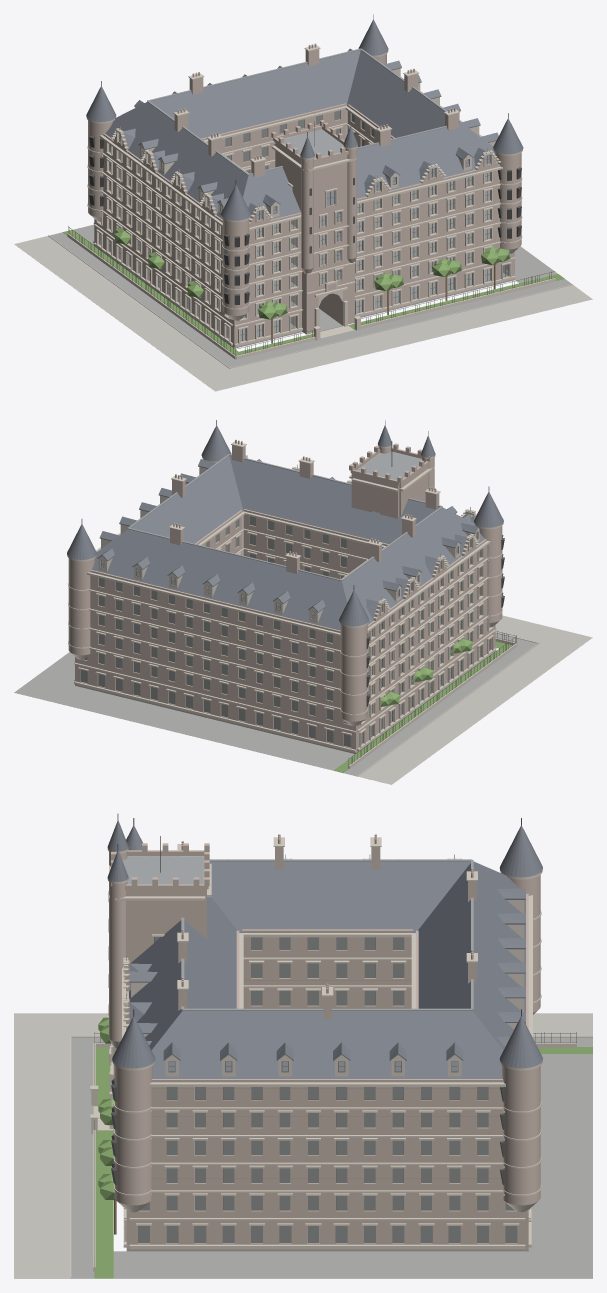
File: clay-baronial-railway-hotel-clay-v001.glb
3 views of the same model, one above another, from view 1: azimuth 30°, elevation 25°; view 2: azimuth 150°, elevation 25°; view 3: azimuth 270°, elevation 25° (orthographic). The views are drawn at different scales.
Visible parts, largest first — view 1: CLAY_WALL, CLAY_ROOF, CLAY_STONE, CLAY_CONCRETE, CLAY_FOUNDATION, CLAY_GLASS, CLAY_TRIM, CLAY_PLANTING, CLAY_HARDWARE, CLAY_FLOOR, CLAY_LEAD; view 2: CLAY_WALL, CLAY_ROOF, CLAY_STONE, CLAY_FOUNDATION, CLAY_TRIM, CLAY_GLASS, CLAY_CONCRETE, CLAY_LEAD, CLAY_PLANTING, CLAY_HARDWARE, CLAY_FLOOR; view 3: CLAY_WALL, CLAY_ROOF, CLAY_FOUNDATION, CLAY_STONE, CLAY_CONCRETE, CLAY_TRIM, CLAY_GLASS, CLAY_PLANTING, CLAY_LEAD, CLAY_HARDWARE, CLAY_JOINT.
Part boxes in pixels (left/top/right/bottom): CLAY_WALL: left=88, top=49, right=521, bottom=347; CLAY_ROOF: left=86, top=19, right=523, bottom=221; CLAY_STONE: left=48, top=45, right=573, bottom=368; CLAY_CONCRETE: left=14, top=236, right=592, bottom=391; CLAY_FOUNDATION: left=49, top=224, right=571, bottom=367; CLAY_GLASS: left=99, top=110, right=508, bottom=340; CLAY_TRIM: left=99, top=110, right=508, bottom=341; CLAY_PLANTING: left=62, top=227, right=564, bottom=355; CLAY_HARDWARE: left=68, top=14, right=554, bottom=355; CLAY_FLOOR: left=110, top=108, right=489, bottom=317; CLAY_LEAD: left=147, top=48, right=462, bottom=175; CLAY_WALL: left=68, top=443, right=502, bottom=753; CLAY_ROOF: left=67, top=425, right=503, bottom=630; CLAY_STONE: left=67, top=441, right=539, bottom=776; CLAY_FOUNDATION: left=14, top=633, right=537, bottom=776; CLAY_TRIM: left=80, top=510, right=491, bottom=746; CLAY_GLASS: left=80, top=510, right=490, bottom=746; CLAY_CONCRETE: left=358, top=615, right=592, bottom=784; CLAY_LEAD: left=127, top=452, right=442, bottom=580; CLAY_PLANTING: left=334, top=638, right=511, bottom=772; CLAY_HARDWARE: left=81, top=420, right=516, bottom=765; CLAY_FLOOR: left=218, top=513, right=479, bottom=712; CLAY_WALL: left=109, top=843, right=540, bottom=1250; CLAY_ROOF: left=107, top=820, right=542, bottom=1078; CLAY_FOUNDATION: left=71, top=1037, right=592, bottom=1278; CLAY_STONE: left=70, top=837, right=592, bottom=1278; CLAY_CONCRETE: left=14, top=1013, right=592, bottom=1278; CLAY_TRIM: left=138, top=937, right=517, bottom=1243; CLAY_GLASS: left=138, top=937, right=517, bottom=1243; CLAY_PLANTING: left=94, top=1017, right=592, bottom=1278; CLAY_LEAD: left=122, top=856, right=473, bottom=1010; CLAY_HARDWARE: left=94, top=813, right=576, bottom=1266; CLAY_JOINT: left=152, top=980, right=500, bottom=1178.
Bounding box in the file's own units: 78 × 39.8 × 72.
